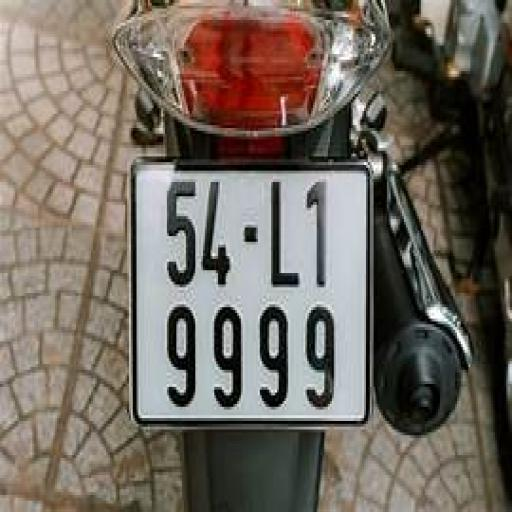place: (134, 162, 367, 424)
